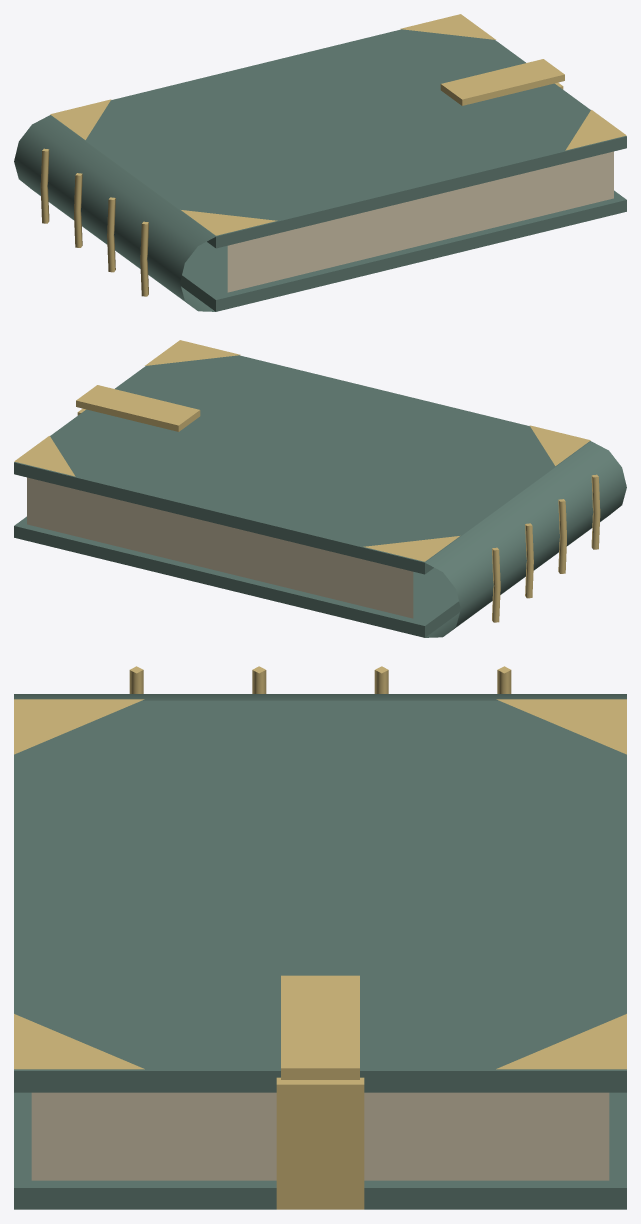
Rendered from BookClosedLarge.fbx.
3 views of the same model, one above another, from view 1: azimuth 30°, elevation 25°; view 2: azimuth 150°, elevation 25°; view 3: azimuth 270°, elevation 25° (orthographic). The views are drawn at different scales.
Visible parts, largest first — view 1: BookClosedLarge; view 2: BookClosedLarge; view 3: BookClosedLarge.
Part boxes in pixels (left/top/right/bottom): BookClosedLarge: left=14, top=14, right=626, bottom=311; BookClosedLarge: left=14, top=340, right=626, bottom=637; BookClosedLarge: left=14, top=666, right=626, bottom=1209.
Bounding box in the file's own units: 0.3386 × 0.057 × 0.21.
